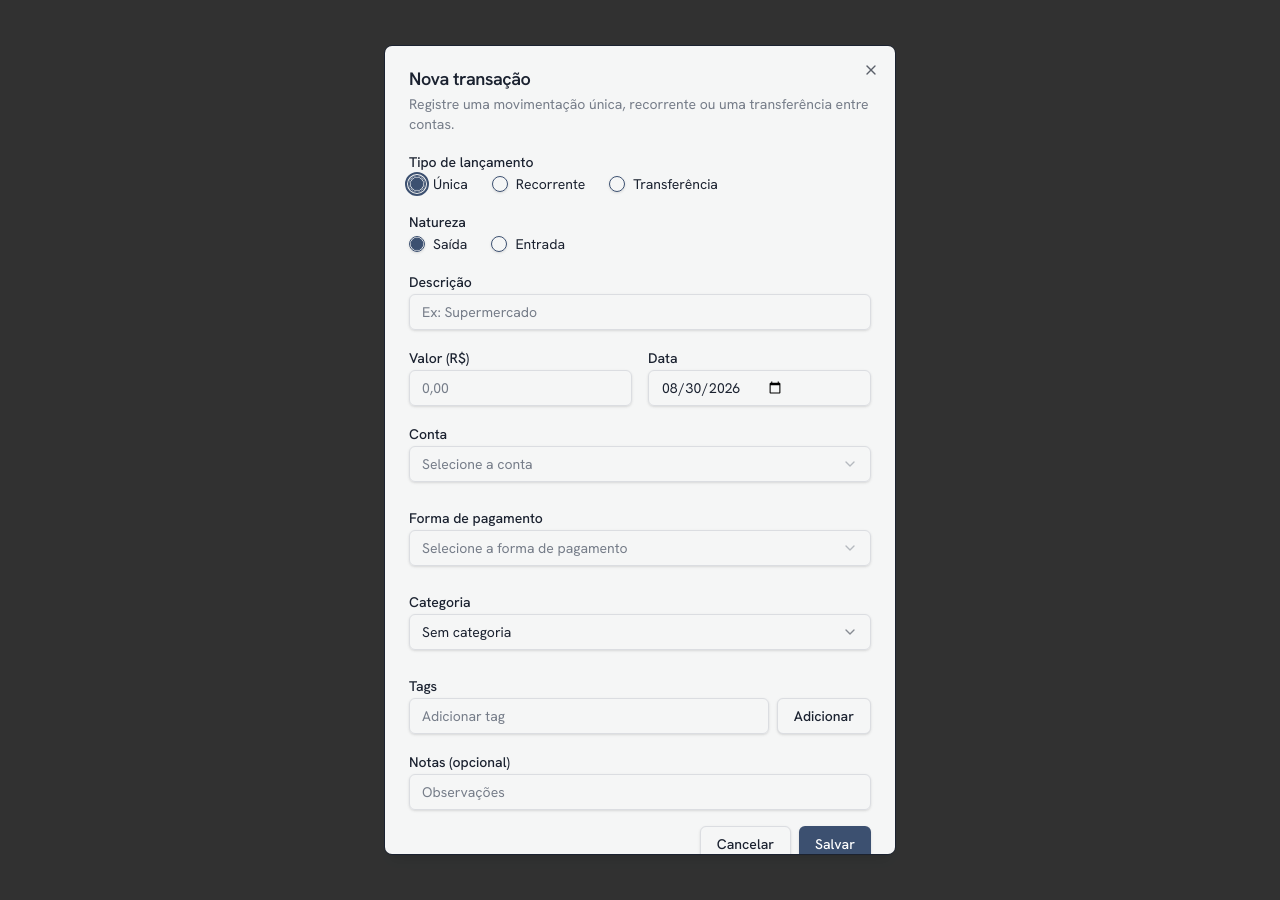
Scenario: TransactionForm › shows validation errors when required fields are missing
This screenshot has width=1280, height=900.
Click the button "Salvar" at (835, 844), box x1=799 y1=826 x2=871 y2=862
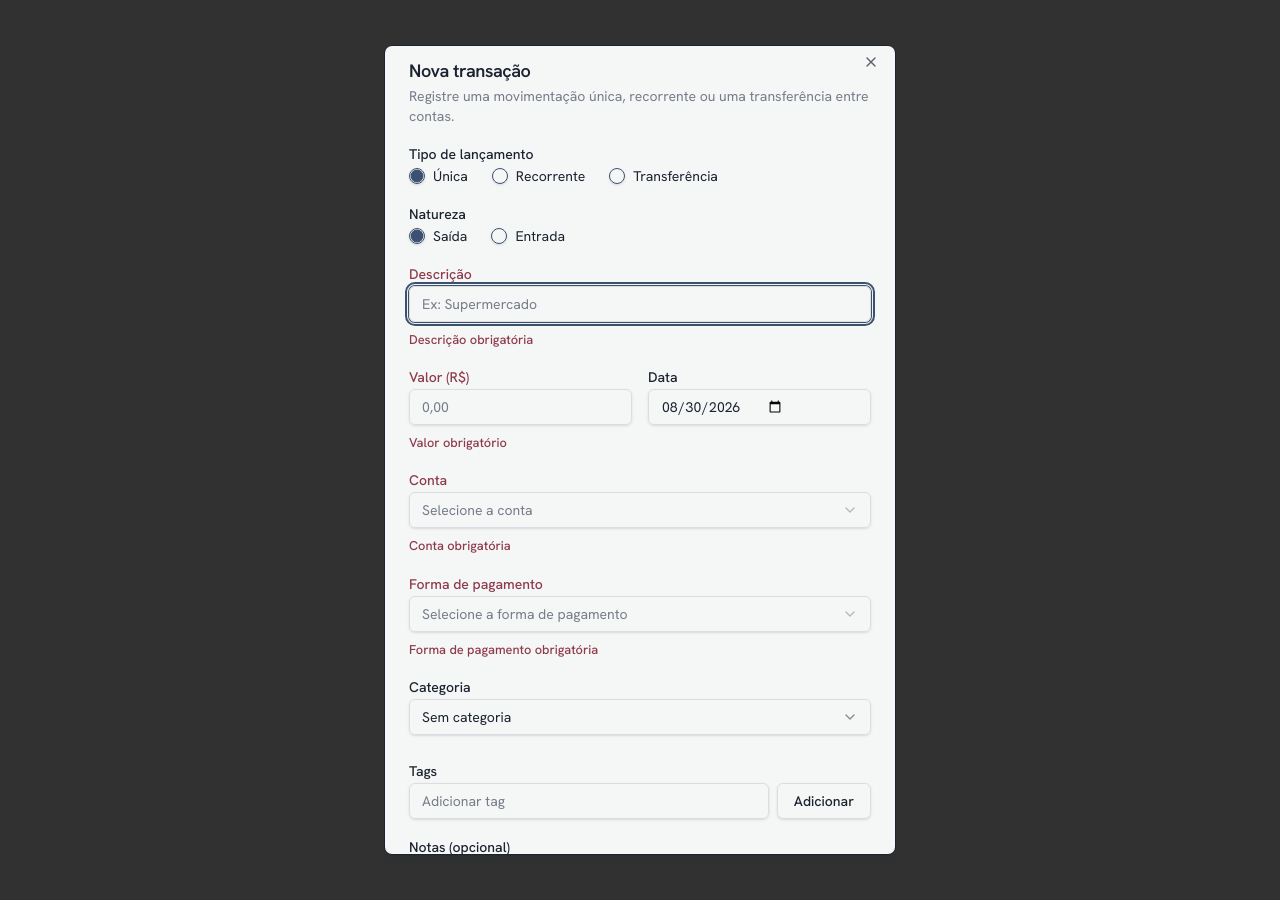
Now the text "Descrição obrigatória" is shown, box x1=409 y1=331 x2=533 y2=348
Now the text "Conta obrigatória" is shown, box x1=409 y1=537 x2=511 y2=554
Now the text "Forma de pagamento obrigatória" is shown, box x1=409 y1=641 x2=598 y2=658
